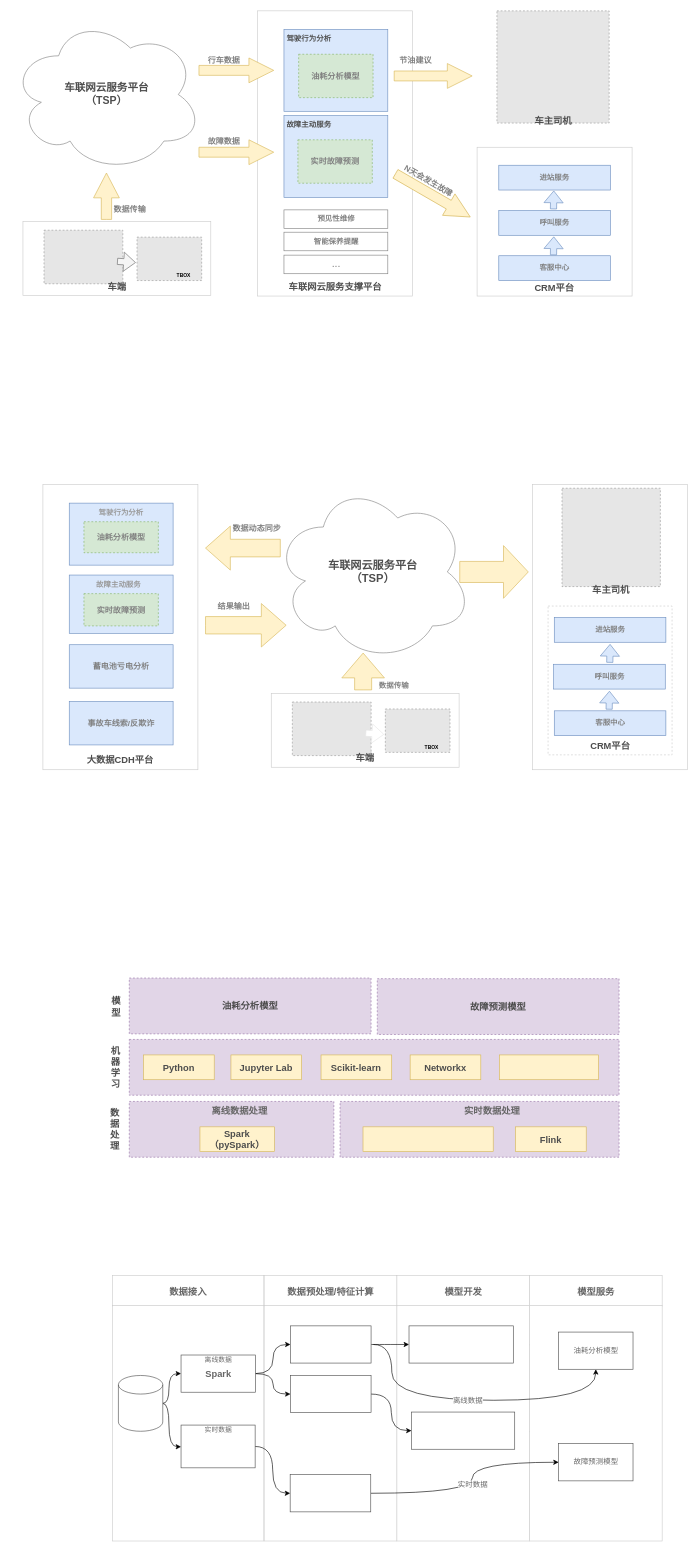
This 699x1552 diagram has some shape labels left out. Grey dashed boxes stand in for pictures. The shapes that lost their labels are listed below. From the top down, each one's box as (x1, y1, x2, y2) in pixels, then its label:
(459, 545, 528, 598): 提醒用户
(499, 1054, 599, 1080): TensorFlow/pyTorch
(362, 1126, 493, 1152): Spark Streaming (pySpark)
(290, 1325, 371, 1363): 离线油耗数据处理和特征计算（pySpark）
(408, 1325, 513, 1363): 油耗分析模型训练 （Python/Scikitlearn）
(118, 1375, 163, 1431): 数据源
(290, 1375, 371, 1413): 离线故障数据处理和特征计算（pySpark）
(180, 1424, 255, 1468): Spark Streaming
(411, 1411, 515, 1449): 故障预测模型训练 (Scikit-learn/Tensorflow)
(290, 1474, 371, 1512): 实时故障数据处理和特征计算（pySpark）
